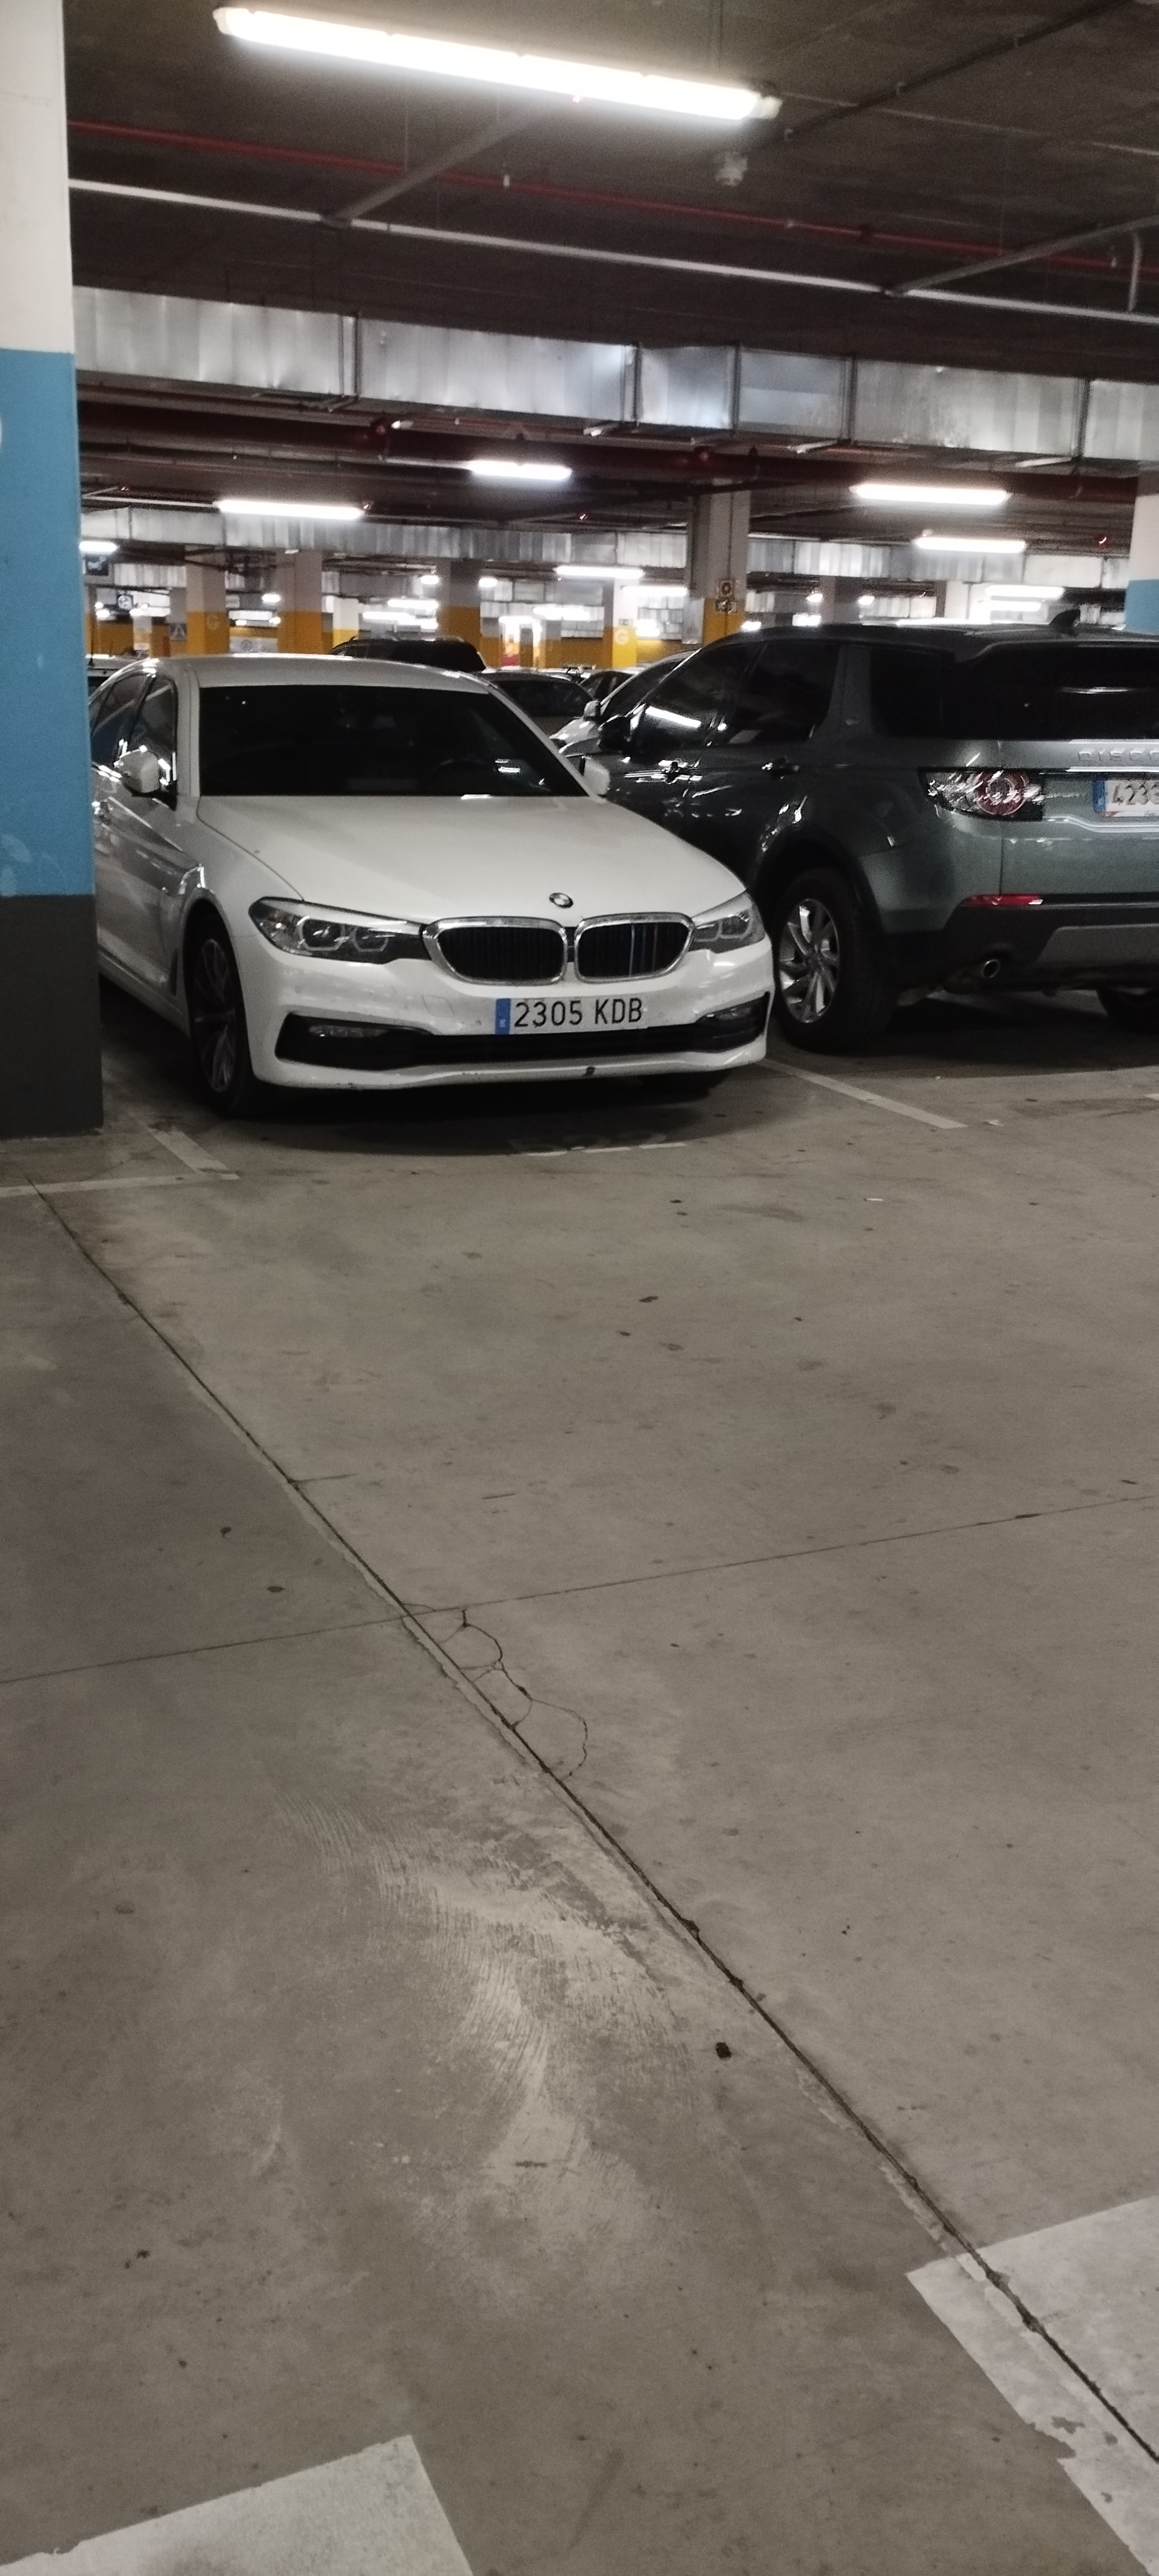Car: (91, 647, 758, 1093)
Plate: (487, 995, 650, 1032)
